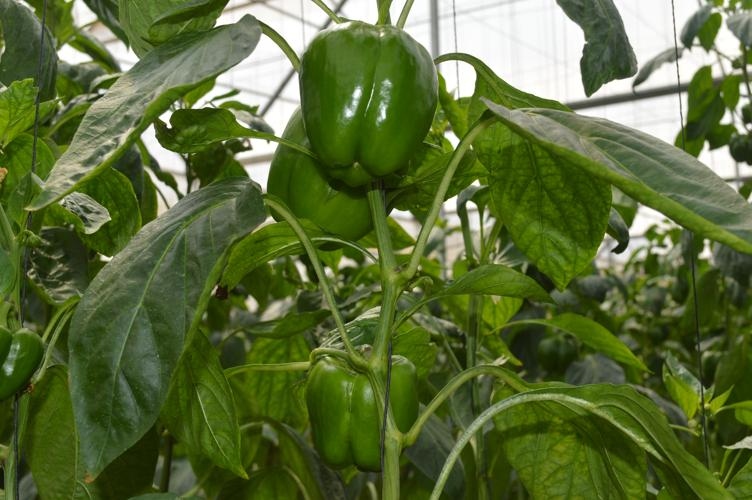BellPepper: (301, 24, 437, 185), (261, 115, 382, 252), (304, 351, 422, 475)
